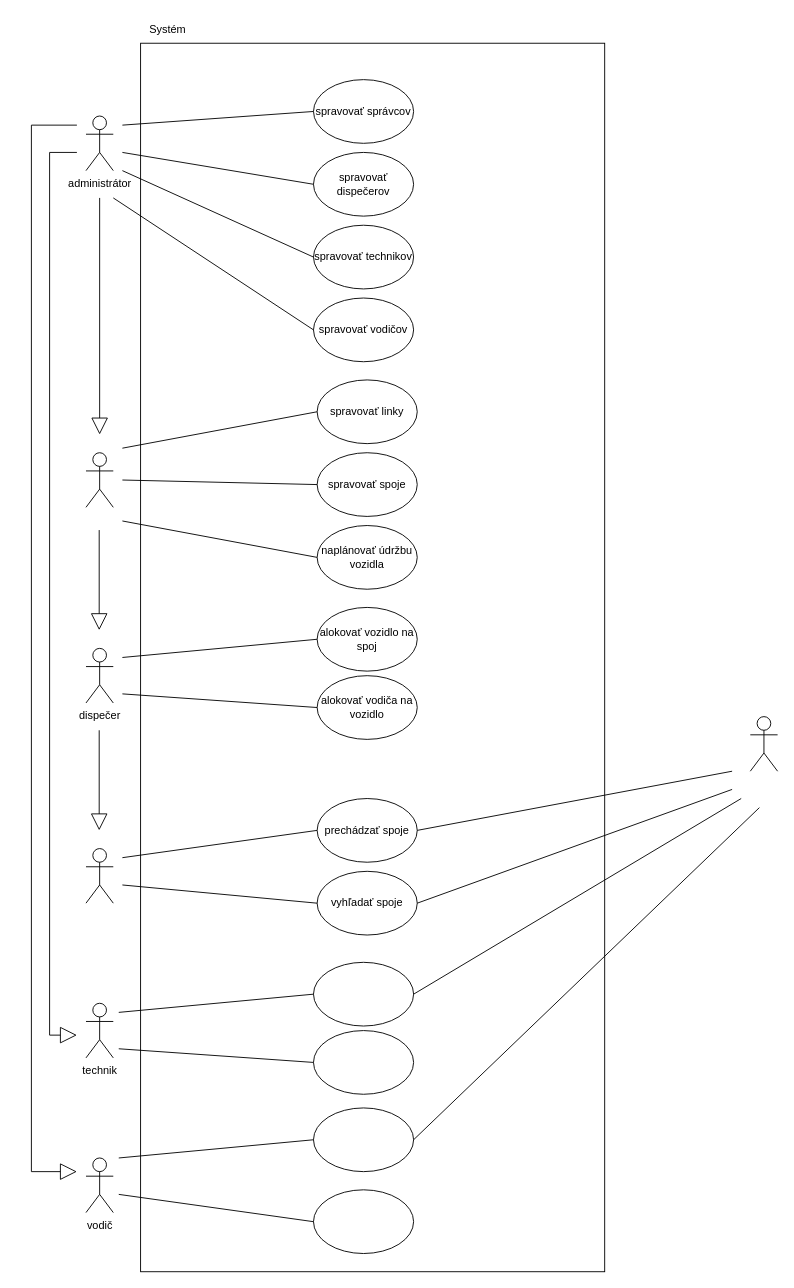
Some shapes in this 794 by 1288 pixel diagram are drawn without their labels. The shapes that lost their labels are listed below. From the top down, each one's box as (x1, y1, x2, y2) in pixels, then its label:
(85, 452, 113, 507): správca
(749, 716, 778, 771): DPMx
(85, 848, 113, 903): užívateľ
(313, 961, 414, 1026): zobraziť požiadavky na údržbu
(313, 1030, 414, 1094): vytvoriť záznam o údržbe vozidla
(313, 1107, 414, 1172): zobraziť plán
(313, 1189, 414, 1254): nahlásiť závadu
